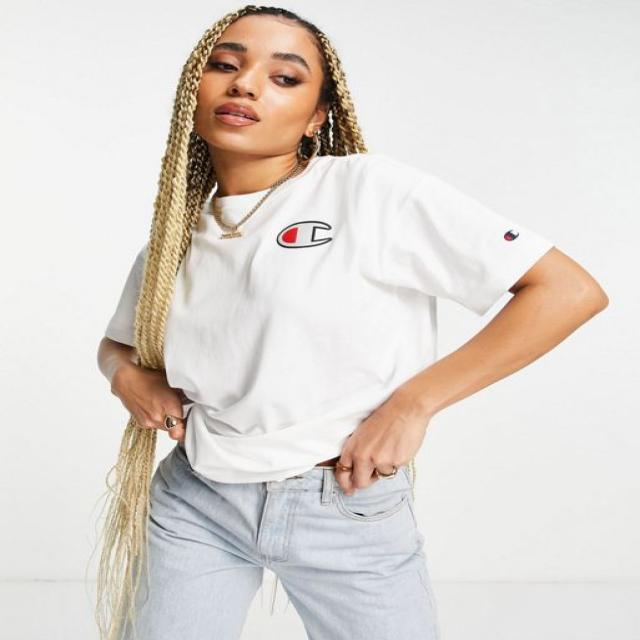tshirt: (100, 150, 552, 483)
